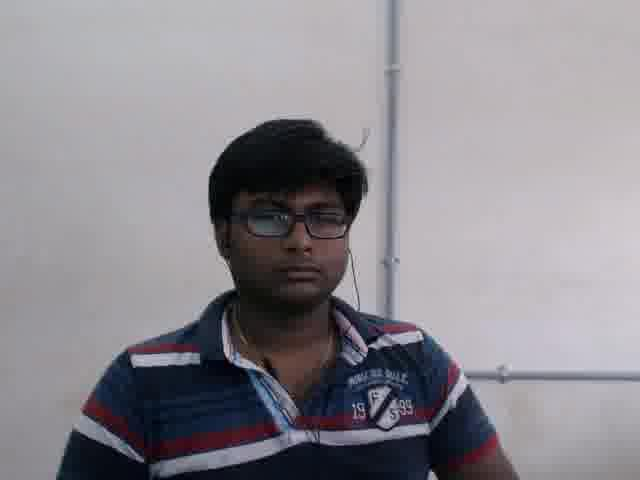bosan: (235, 171, 347, 302)
